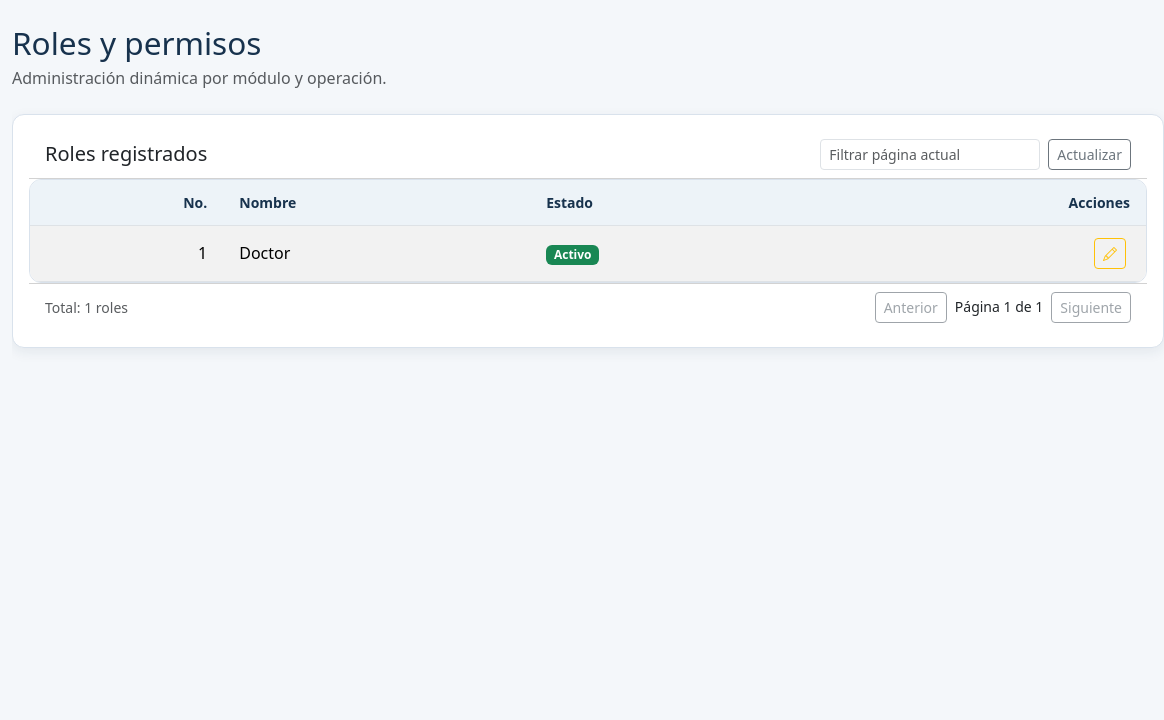
Test case: RolesComponent › permite cancelar la edición sin escribir
Click the button named "Editar rol Doctor".
click(1110, 253)  # box [1094,238,1126,269]
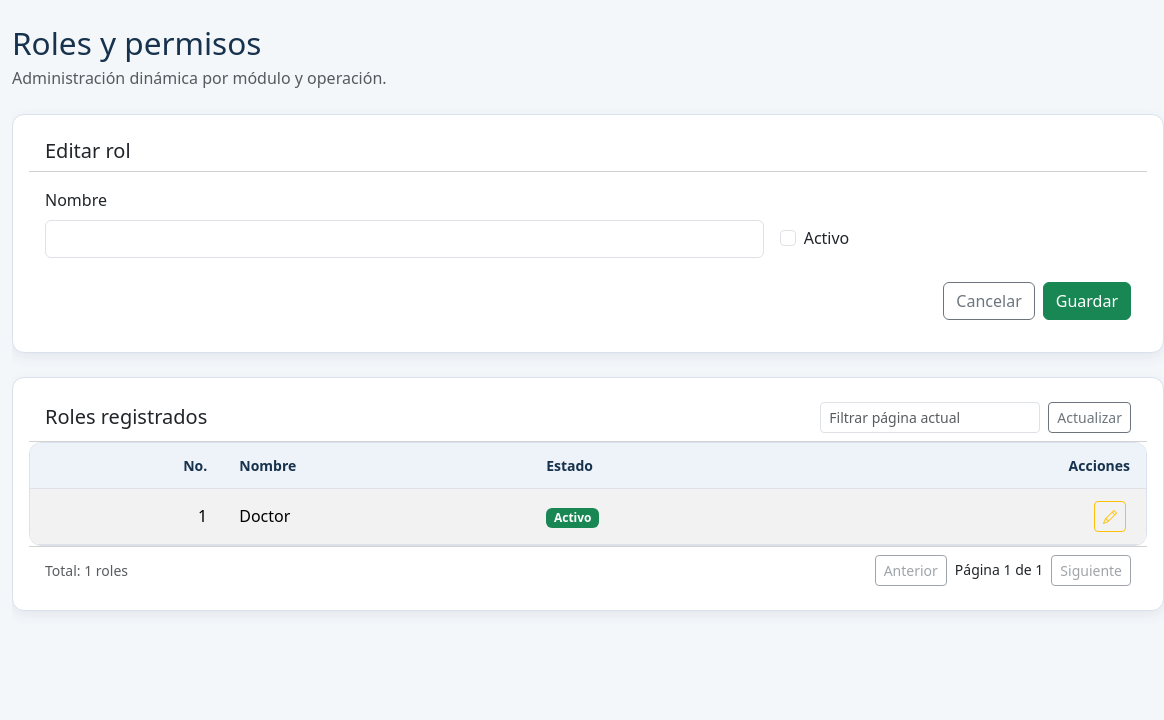
Click the button "Cancelar".
click(989, 301)  # box [943,282,1035,320]
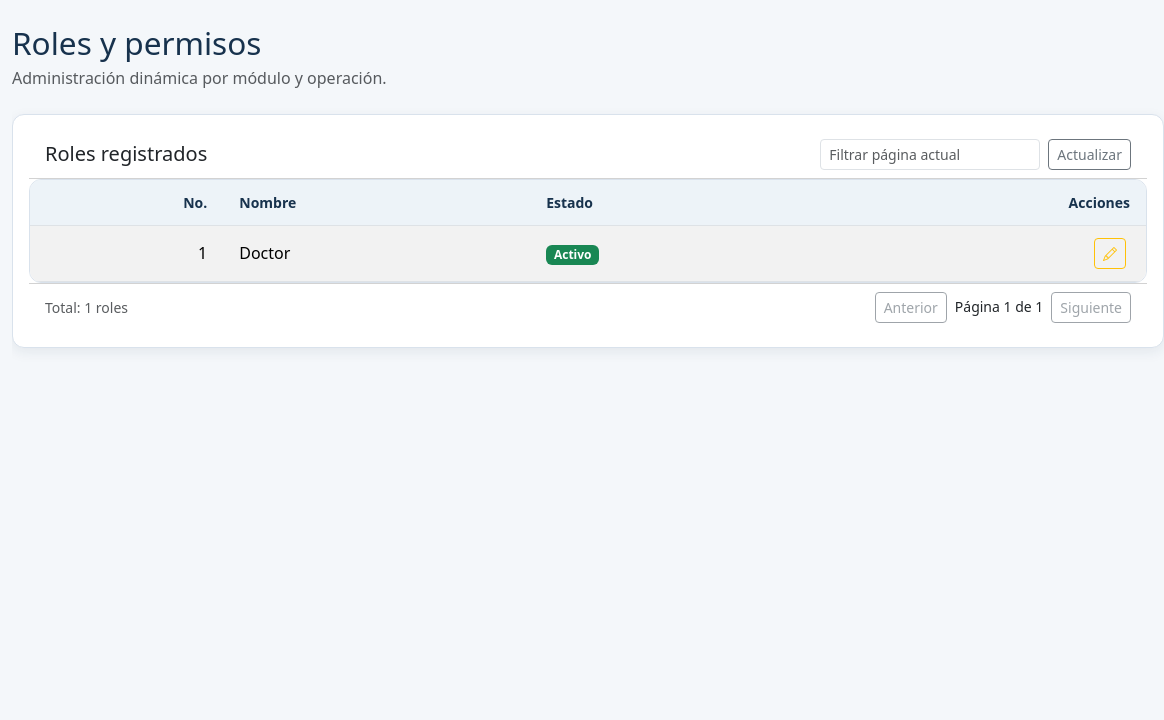
Check: the form is gone
